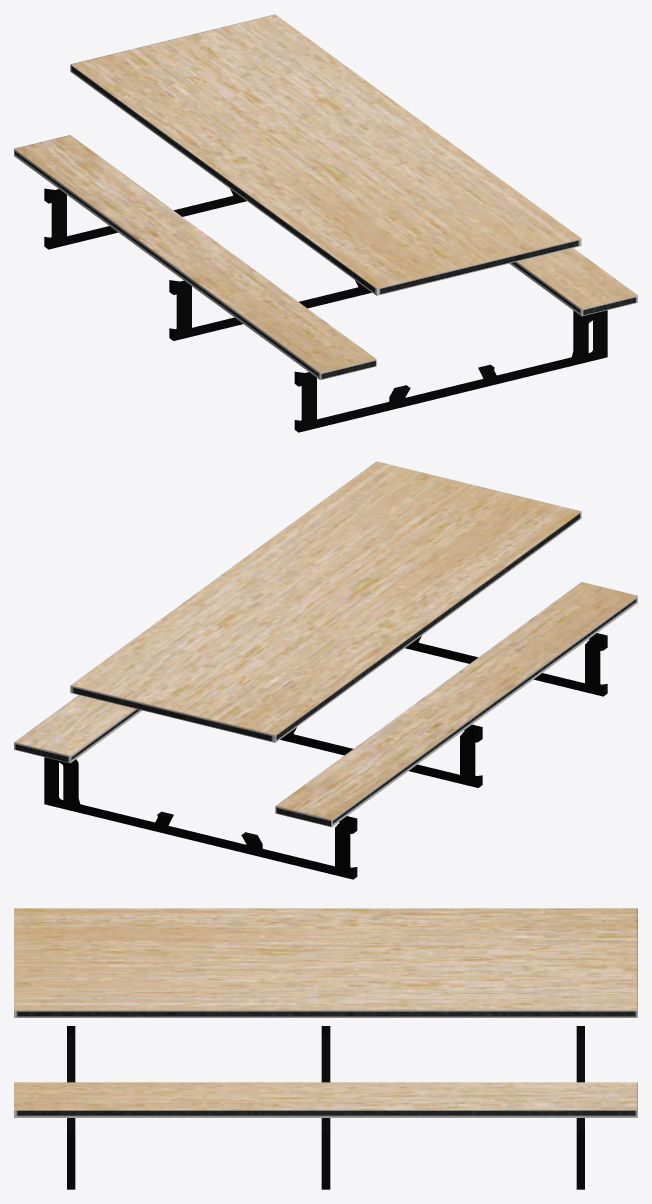
File: CafeteriaTable.obj
3 views of the same model, one above another, from view 1: azimuth 30°, elevation 25°; view 2: azimuth 150°, elevation 25°; view 3: azimuth 270°, elevation 25° (orthographic).
Visible parts, largest first — view 1: pCube17; view 2: pCube17; view 3: pCube17.
Boxes of the visible parts, x1,y1,x2,y2 form: pCube17: [14, 14, 637, 432]; pCube17: [14, 461, 637, 879]; pCube17: [14, 908, 637, 1189].
Bounding box in the file's own units: 4.4 × 1.99 × 7.35.
Materials: 1 (1 with a texture image).
